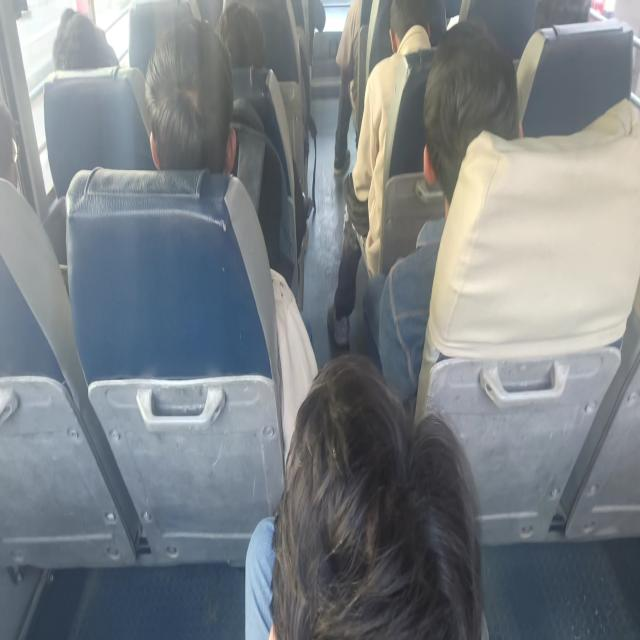person: (277, 391, 459, 640), (150, 34, 247, 193), (428, 38, 526, 186), (49, 14, 119, 76), (215, 2, 264, 66), (384, 0, 437, 58), (0, 86, 30, 181), (537, 0, 595, 36)
